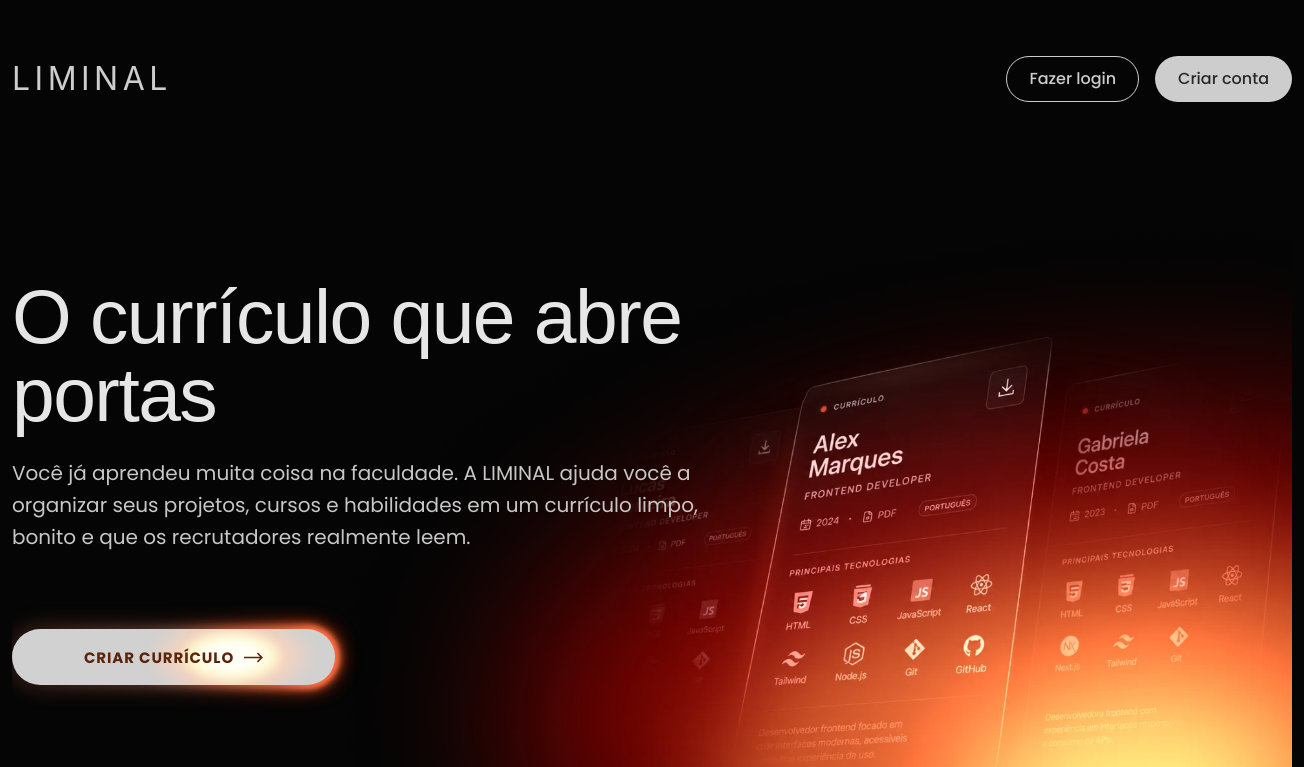
Test: App › apresenta a porta de entrada com a seção hero e permite acessar a conta
Expected: the heading "O currículo que abre portas" is shown, [12,277,732,433]
Click the button "Fazer login".
click(1073, 79)  # box [1006,56,1139,102]
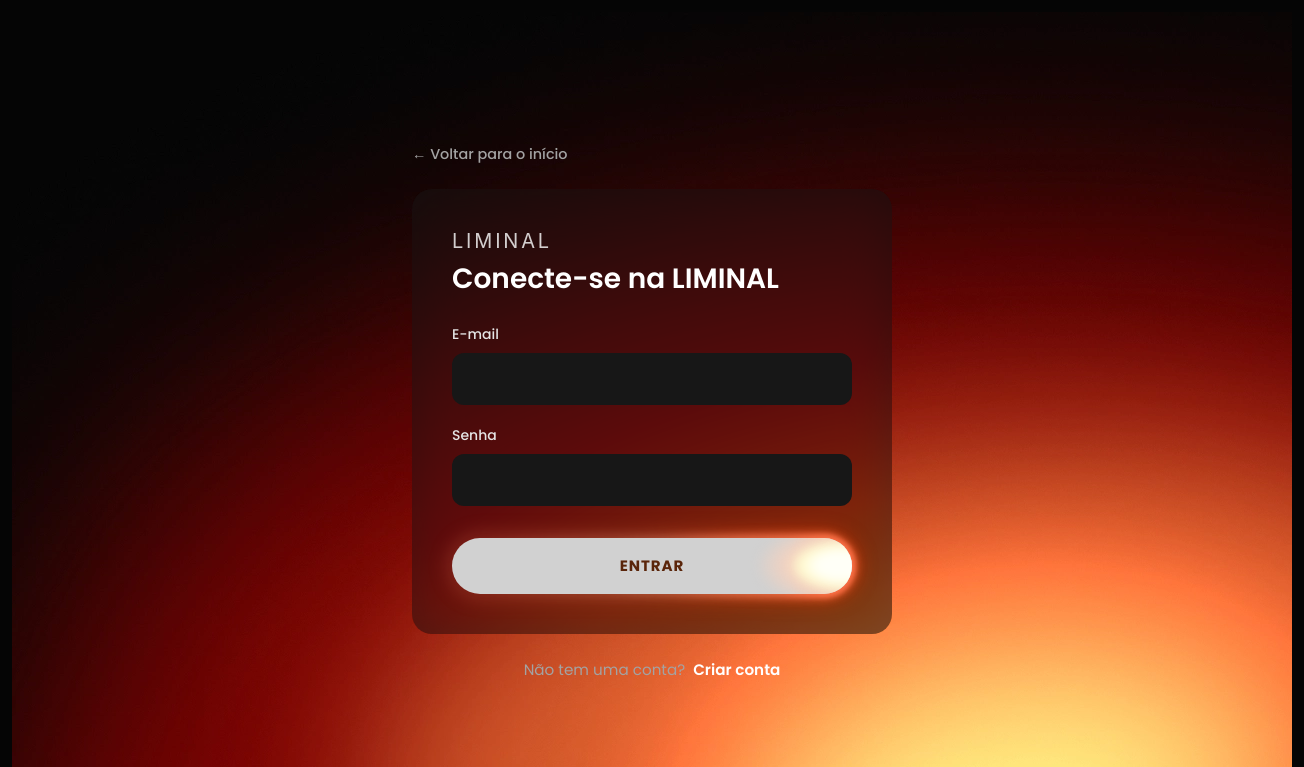
Result: the heading "Conecte-se na LIMINAL" is shown at [452,258,779,298]
